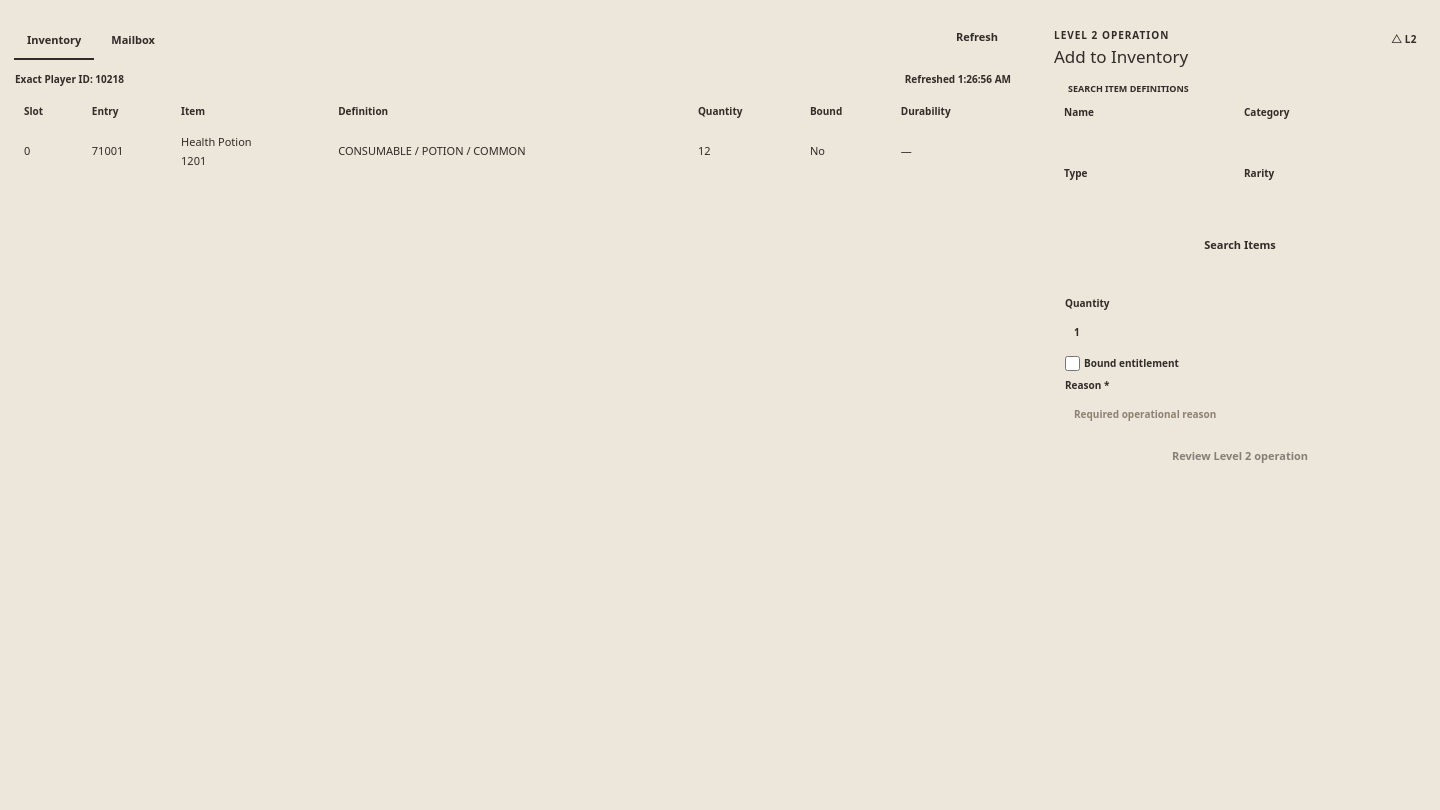
Test case: Player Inventory and Mailbox full-detail surface › fails closed when exact Item detail identity mismatches
Expected: the text "71001" is shown, [82,128,171,175]
Click the button "Search Items".
click(1240, 245)  # box [1064,227,1416,263]
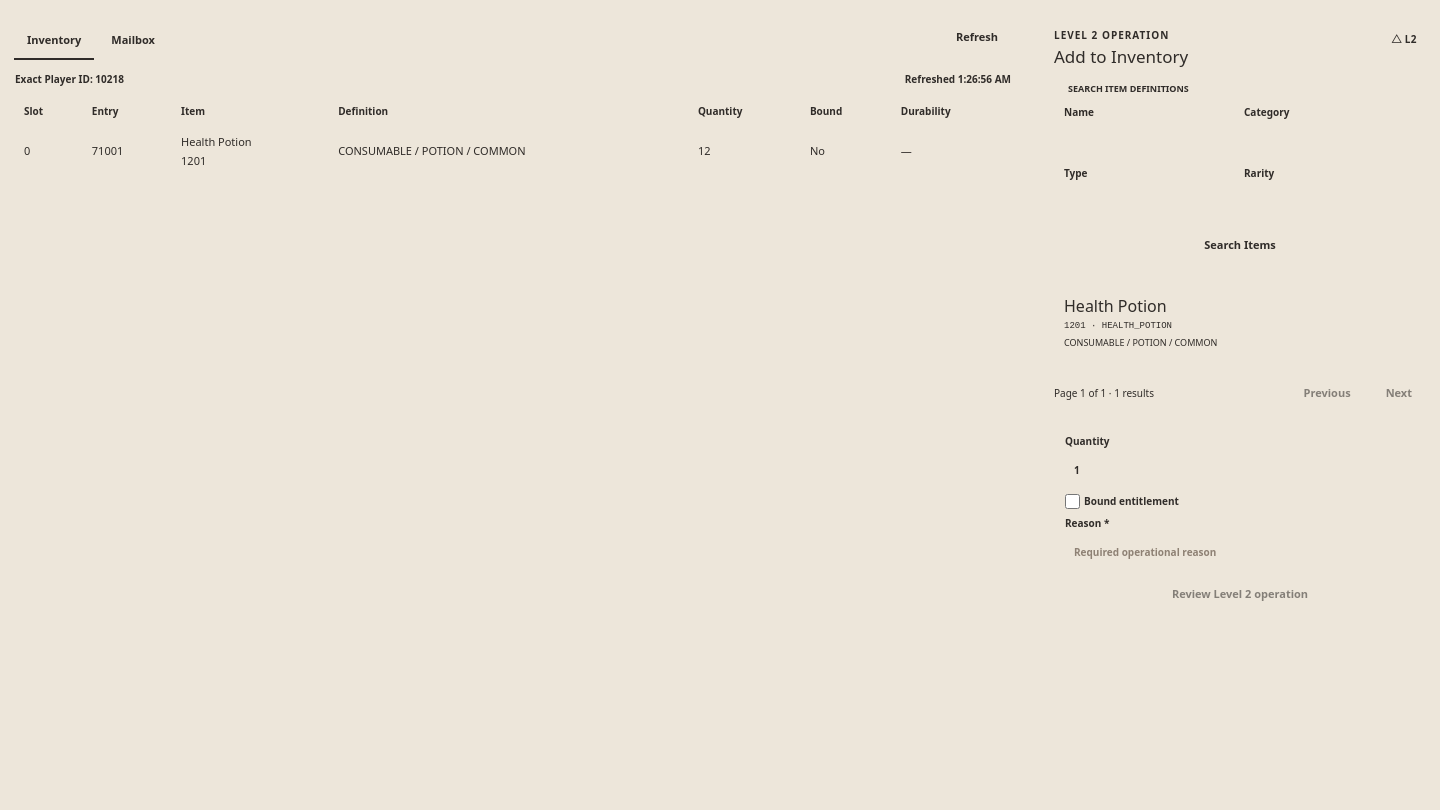
Click the button "Health Potion".
click(1115, 306)  # box [1054,285,1426,358]
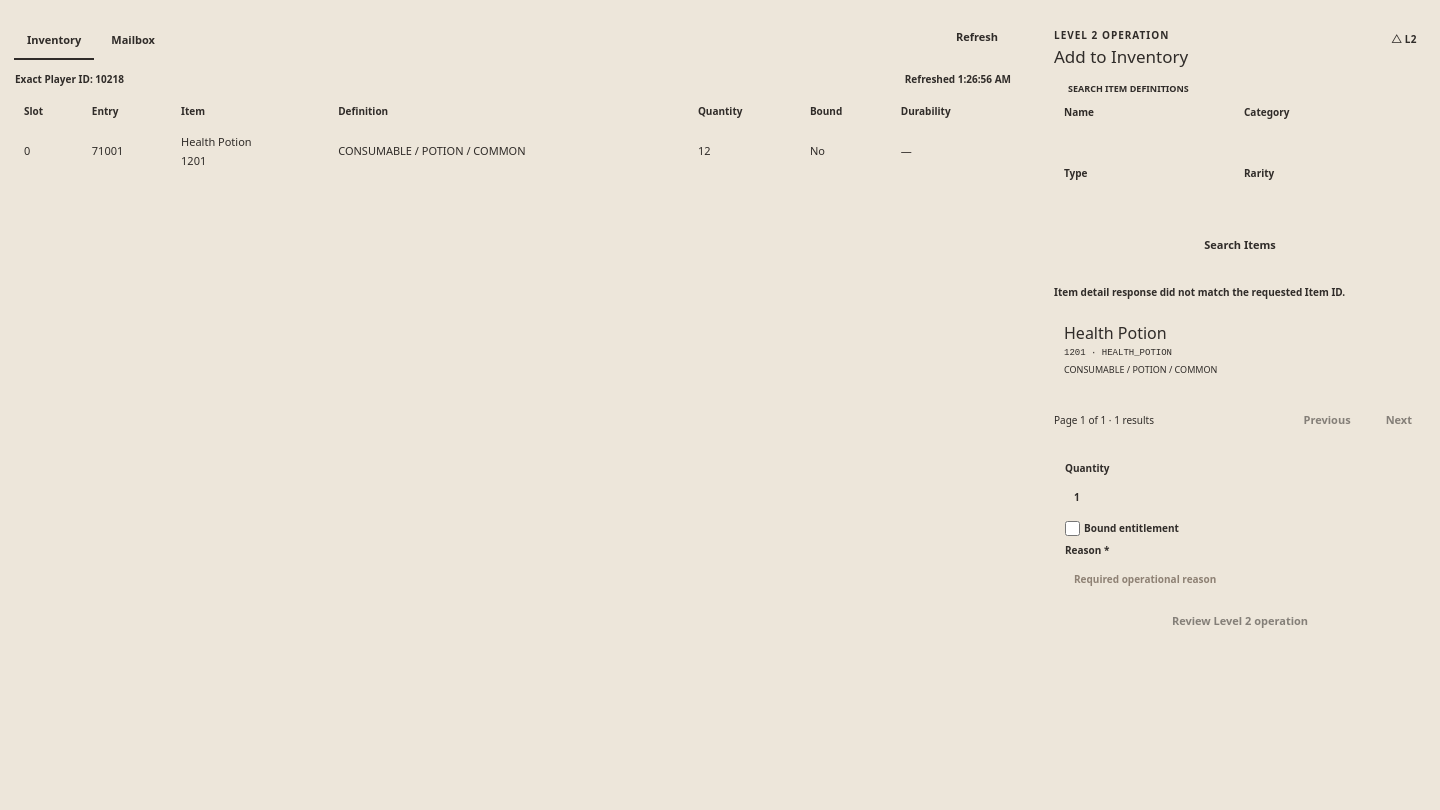
Expected: the button "Review Level 2 operation" is disabled, [1065,603,1415,639]
Now the message shows "requested Item ID", box [1054,285,1345,299]
